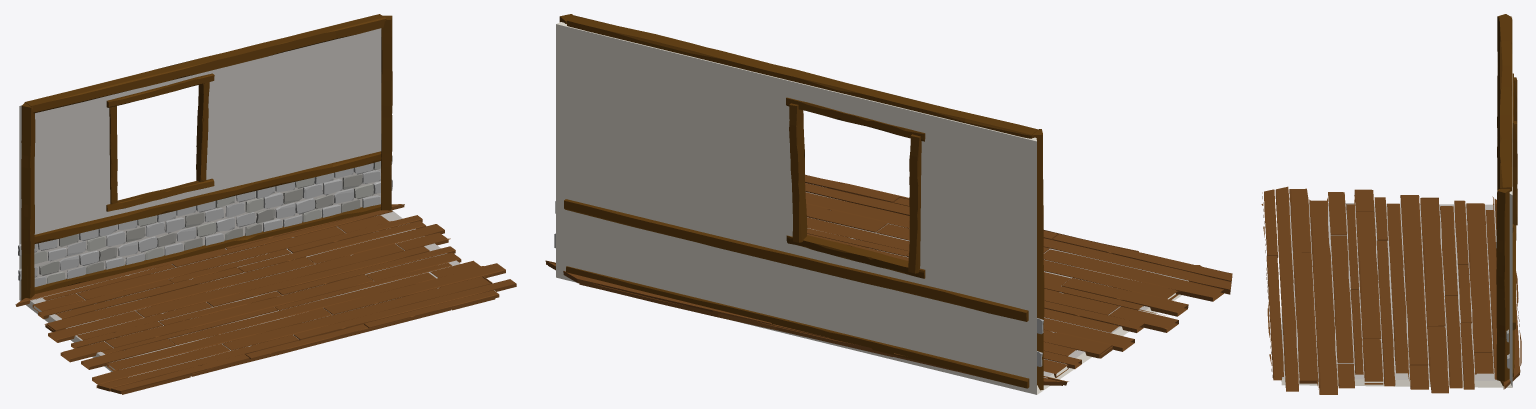
Rendered from BPW2_Wall.fbx.
3 renders of one model, left to right at view 1: azimuth 30°, elevation 25°; view 2: azimuth 150°, elevation 25°; view 3: azimuth 270°, elevation 25°, orthographic. The views are drawn at different scales.
Parts seen in each view (by area): view 1: Floor, RoomFrame, Pillar4, Bricks2, Windowframe; view 2: RoomFrame, Floor, Pillar4, Windowframe; view 3: Floor, Pillar4, RoomFrame, Windowframe.
Part boxes in pixels (x1=…): Floor: x1=15, y1=204, x2=516, y2=394; RoomFrame: x1=19, y1=28, x2=495, y2=377; Pillar4: x1=21, y1=14, x2=392, y2=300; Bricks2: x1=18, y1=155, x2=392, y2=286; Windowframe: x1=106, y1=73, x2=214, y2=211; RoomFrame: x1=556, y1=22, x2=1188, y2=394; Floor: x1=545, y1=174, x2=1232, y2=385; Pillar4: x1=559, y1=14, x2=1044, y2=390; Windowframe: x1=786, y1=97, x2=925, y2=278; Floor: x1=1261, y1=186, x2=1521, y2=394; Pillar4: x1=1496, y1=14, x2=1516, y2=386; RoomFrame: x1=1281, y1=17, x2=1512, y2=387; Windowframe: x1=1512, y1=73, x2=1517, y2=232.
Bounding box in the file's own units: 5225 × 2337 × 2796.
